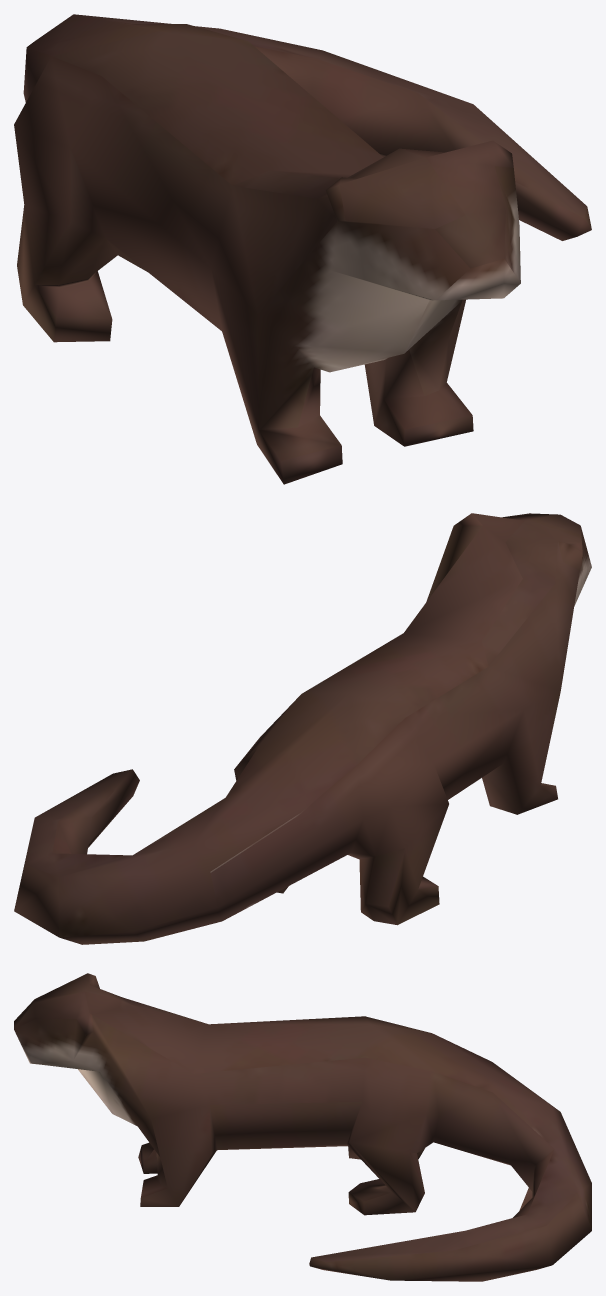
File: river_otter-BCCs3kia.glb
The picture shows the model from 3 angles, top to bottom: view 1: azimuth 30°, elevation 25°; view 2: azimuth 150°, elevation 25°; view 3: azimuth 270°, elevation 25°; orthographic projection. The views are drawn at different scales.
Parts seen in each view (by area): view 1: geom0; view 2: geom0; view 3: geom0.
Boxes of the visible parts, x1,y1,x2,y2 form: geom0: (14,14,591,484); geom0: (14,513,591,944); geom0: (14,973,591,1281).
Bounding box in the file's own units: 0.5799 × 0.379 × 1.
Materials: 1 (1 with a texture image).
